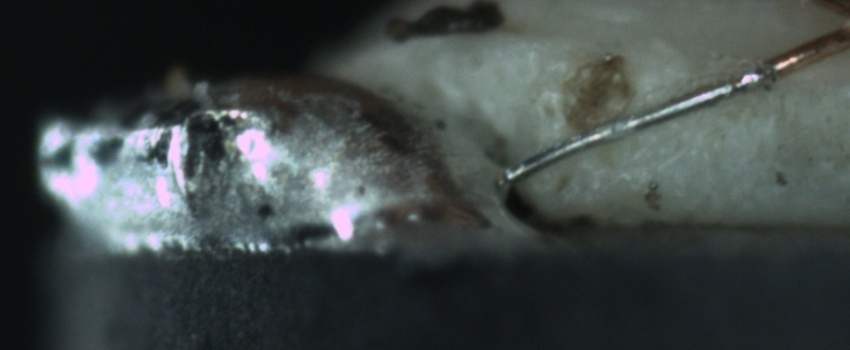TS: (507, 65, 772, 179)
TTCW: (495, 37, 825, 187)
